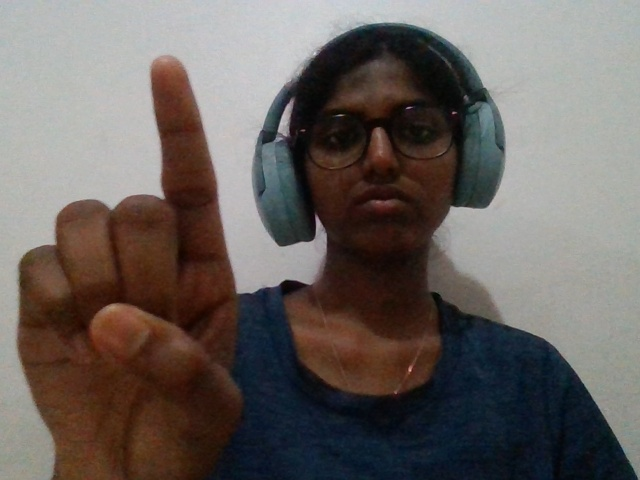D: (3, 47, 249, 476)
